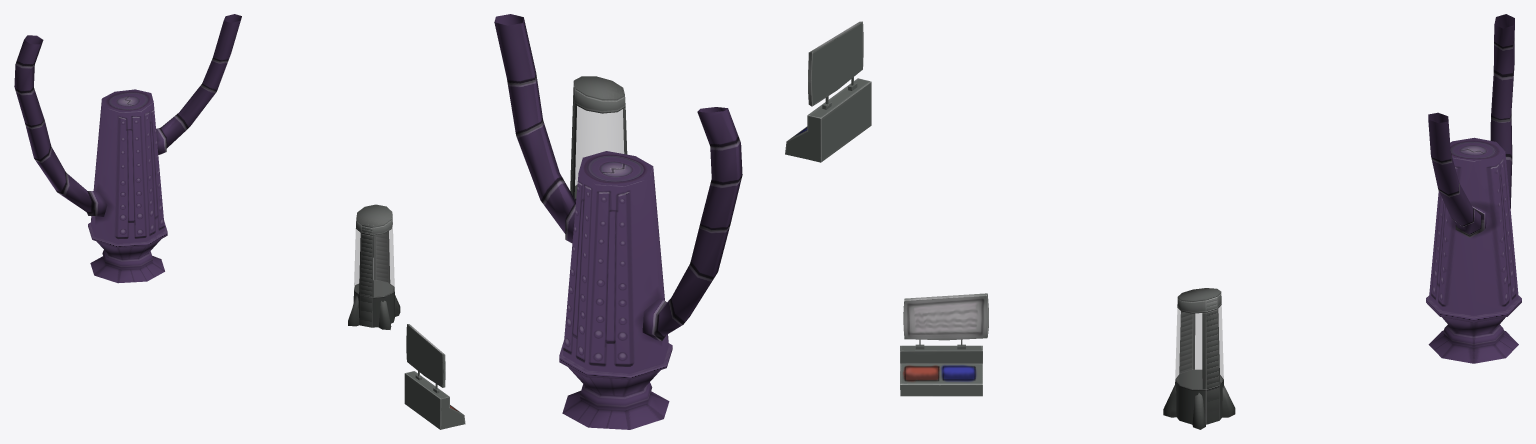
The model's file is conputador2.fbx.
3 views of the same model, side by side, from view 1: azimuth 30°, elevation 25°; view 2: azimuth 150°, elevation 25°; view 3: azimuth 270°, elevation 25° (orthographic). The views are drawn at different scales.
Parts seen in each view (by area): view 1: TuboEnfeite, Tubao, PC; view 2: TuboEnfeite, PC, Tubao; view 3: TuboEnfeite, PC, Tubao.
Boxes of the visible parts, x1,y1,x2,y2 form: TuboEnfeite: (14, 14, 241, 283); Tubao: (348, 204, 400, 329); PC: (404, 324, 465, 429); TuboEnfeite: (494, 14, 742, 429); PC: (785, 21, 871, 162); Tubao: (570, 76, 627, 200); TuboEnfeite: (1426, 14, 1521, 363); PC: (900, 293, 988, 396); Tubao: (1163, 288, 1235, 429).
Size of the model in its own units: 706 by 632 by 1275.
